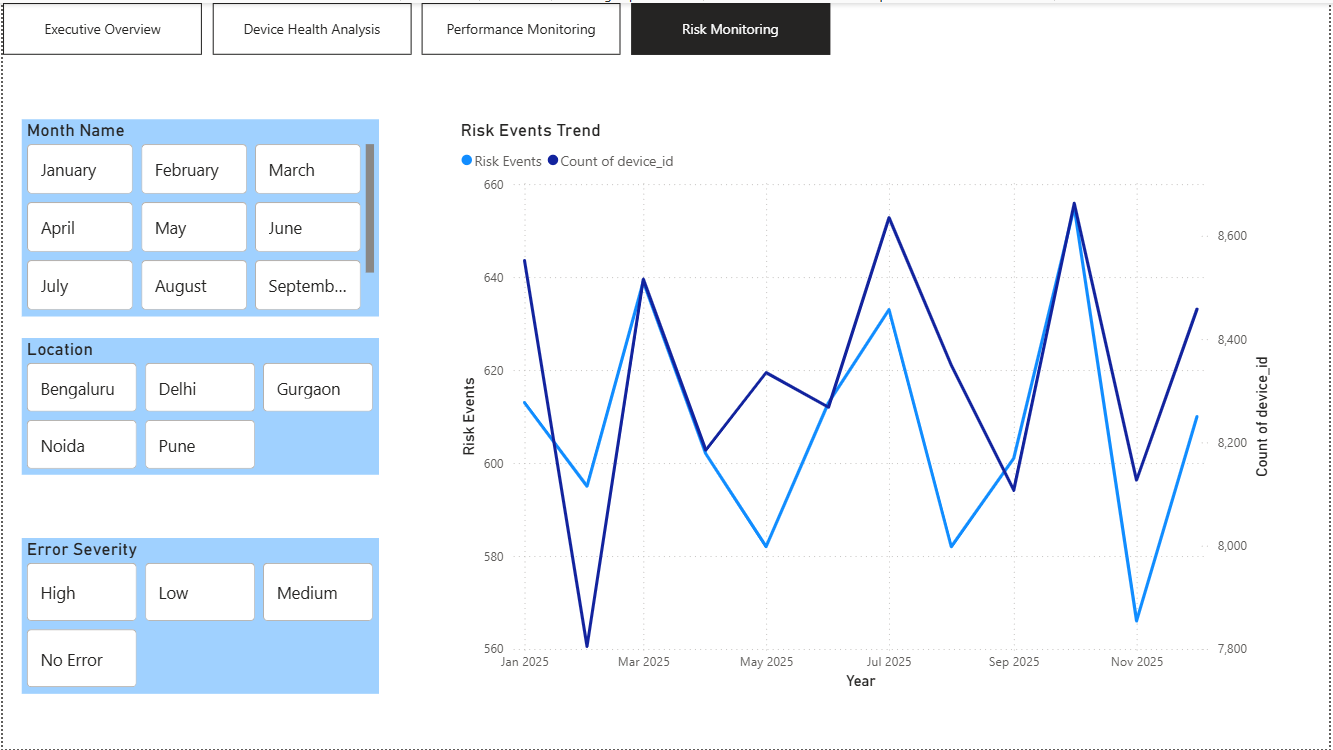

The dashboard page shown, as its layout file describes it:
{"tool":"powerbi","page":{"name":"Risk Monitoring","canvas":[1280,720],"ordinal":3},"visuals":[{"type":"lineChart","title":"Risk Events Trend","fields":{"Category":["telemetry_clean.date.Variation.Date Hierarchy.Year","telemetry_clean.date.Variation.Date Hierarchy.Month","telemetry_clean.date.Variation.Date Hierarchy.Day"],"Y":["telemetry_clean.Risk Events"],"Y2":["CountNonNull(telemetry_clean.device_id)"]},"box":[436.7,111.7,791.7,555],"z":0},{"type":"advancedSlicerVisual","title":"Month Name","fields":{"Values":["telemetry_clean.month_name"]},"box":[18.3,111.7,345,190],"z":1000},{"type":"advancedSlicerVisual","title":"Location","fields":{"Values":["telemetry_clean.location"]},"box":[18.3,323.3,345,131.7],"z":2000},{"type":"advancedSlicerVisual","title":"Error Severity","fields":{"Values":["telemetry_clean.error_severity"]},"box":[18.3,516.7,345,150],"z":3000},{"type":"pageNavigator","box":[0,0,800,50],"z":3001}]}

Visuals, with their boxes in screenshot pixels (x1, y1, x2, y2), scaled from the page's 1280x720 canvas onto the 1333x750 screenshot:
"Risk Events Trend" lineChart: x1=455 y1=116 x2=1279 y2=694
"Month Name" advancedSlicerVisual: x1=19 y1=116 x2=378 y2=314
"Location" advancedSlicerVisual: x1=19 y1=337 x2=378 y2=474
"Error Severity" advancedSlicerVisual: x1=19 y1=538 x2=378 y2=694
pageNavigator: x1=0 y1=0 x2=833 y2=52
